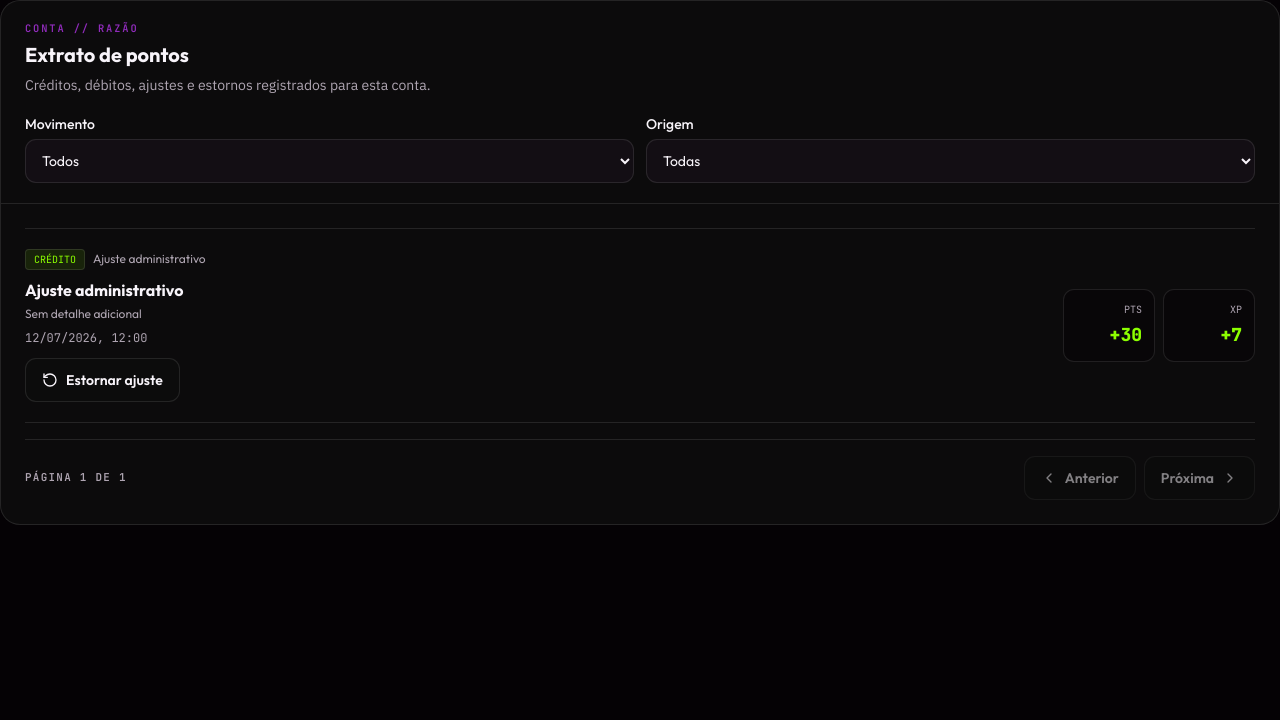
it: participant point-event reversal flow › handles reversal replay=false and invalidates ranking for XP
Click the button "Estornar ajuste" at {"x": 102, "y": 380}, box [25,358,180,402]
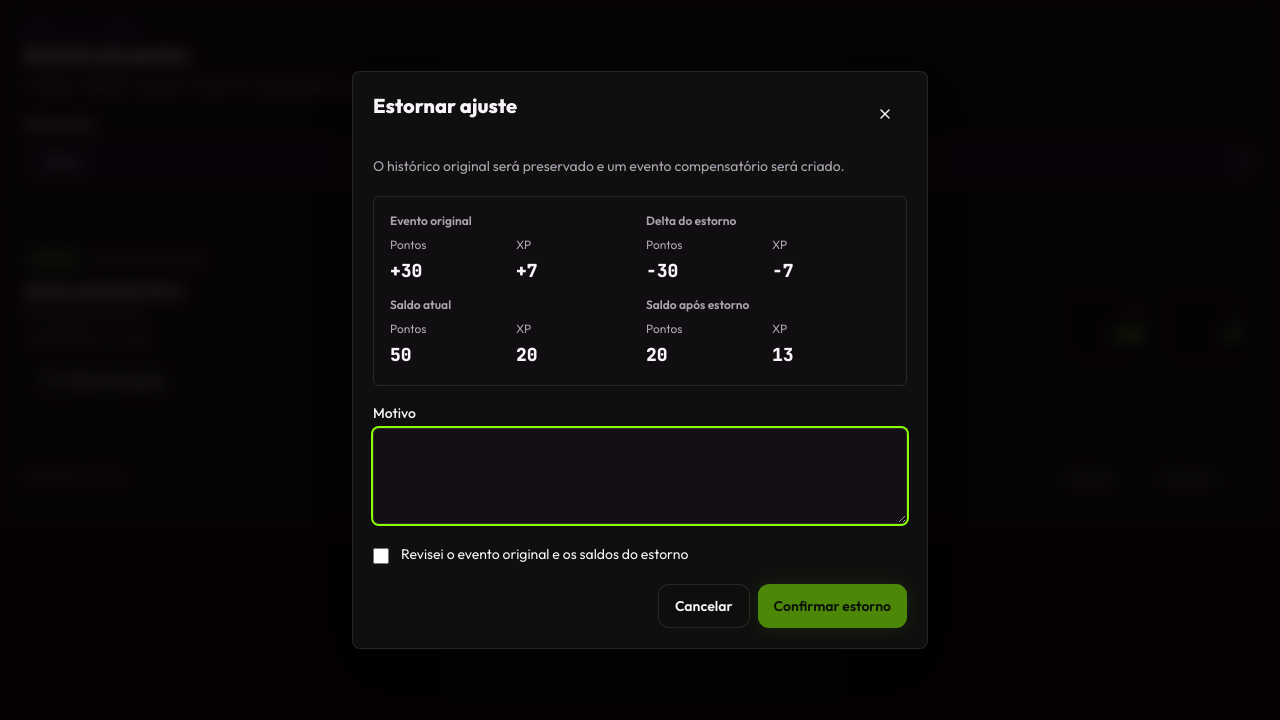
Now the text "Saldo após estorno" is shown, box [646,297,749,312]
Type "Estorno operacional" into the text box labelled "Motivo" at {"x": 640, "y": 476}, box [373,428,907,524]
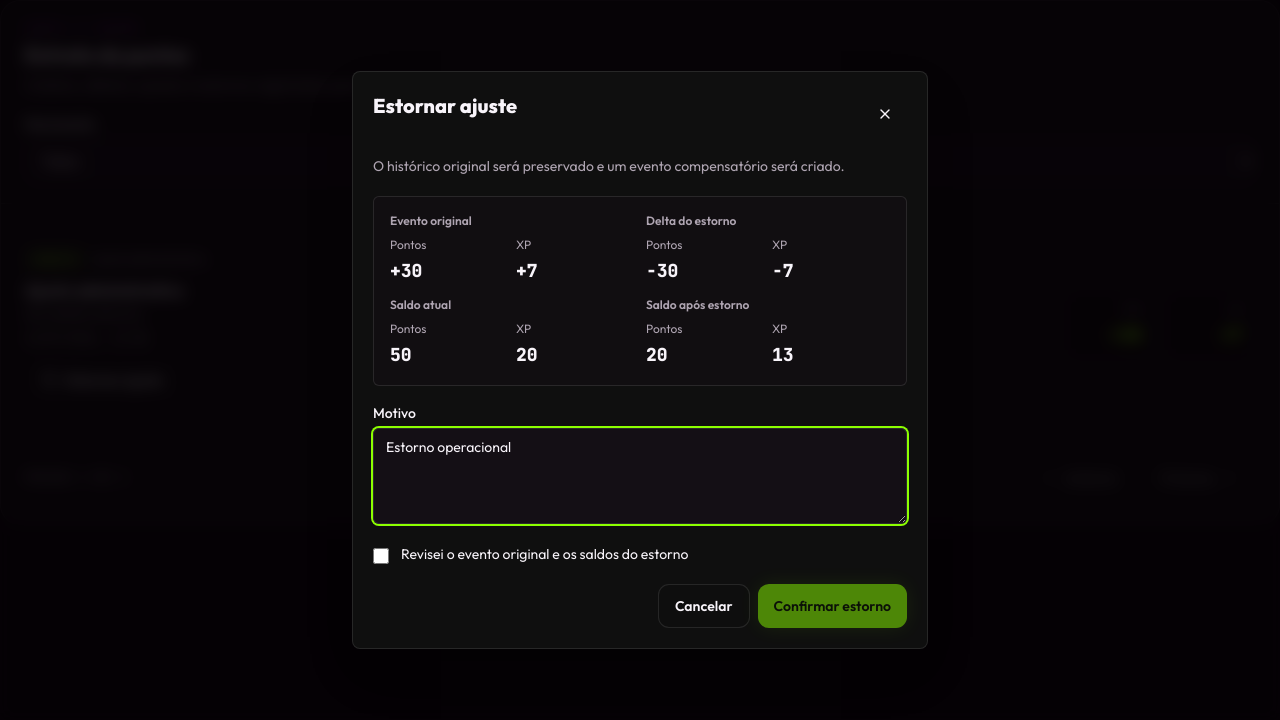
Click the checkbox labelled "Revisei o evento original e os saldos do estorno" at {"x": 381, "y": 556}, box [373,548,389,564]
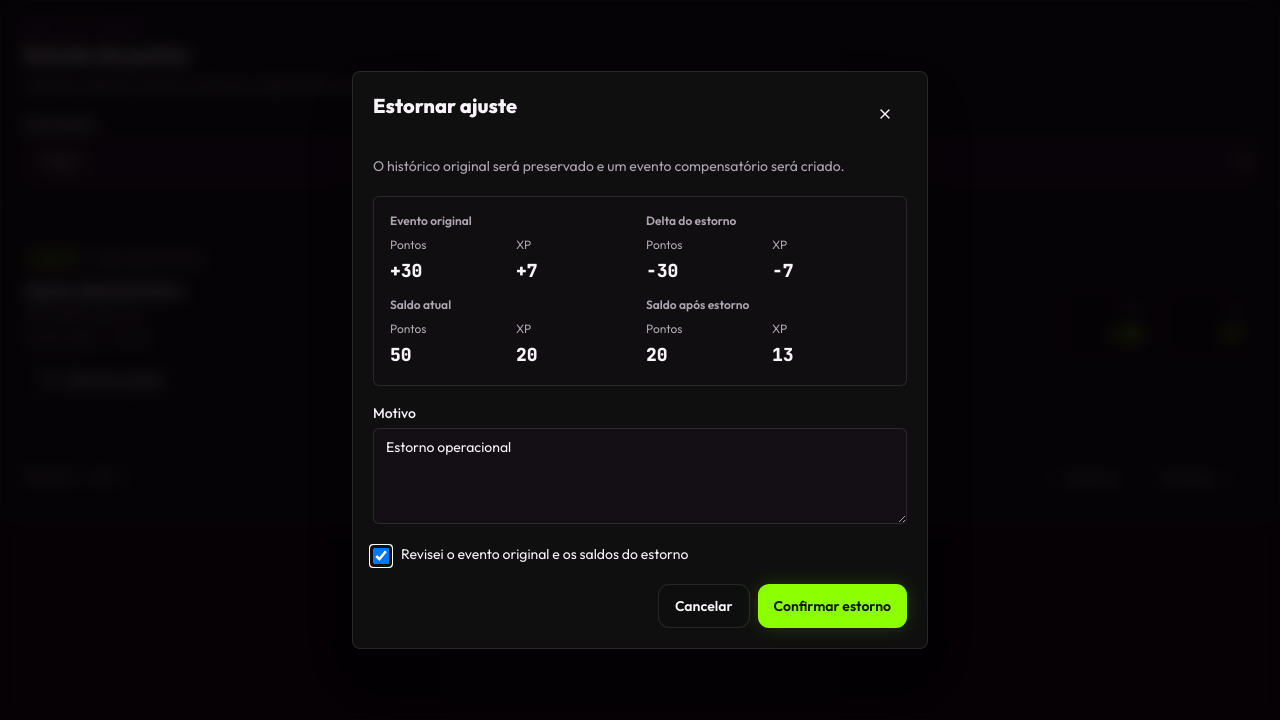
Click the button "Confirmar estorno" at {"x": 832, "y": 606}, box [758,584,907,628]
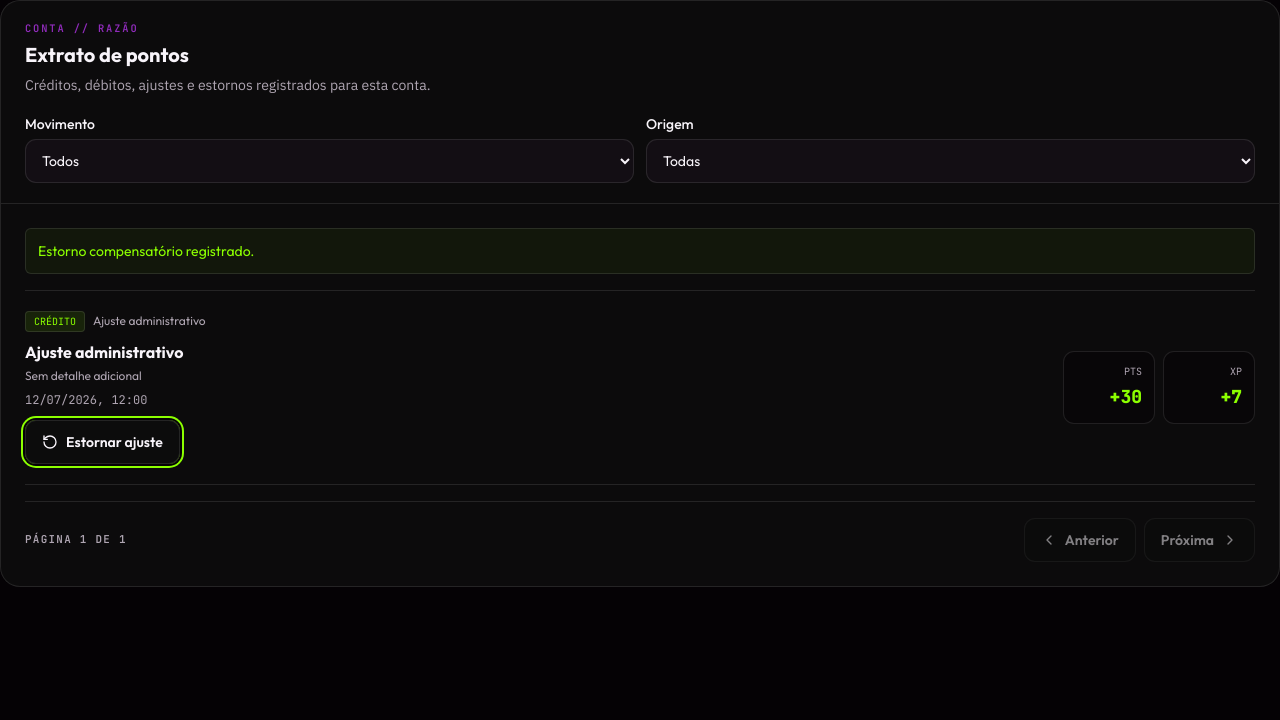
Now the message reads "Estorno compensatório registrado.", box [38,242,254,260]
